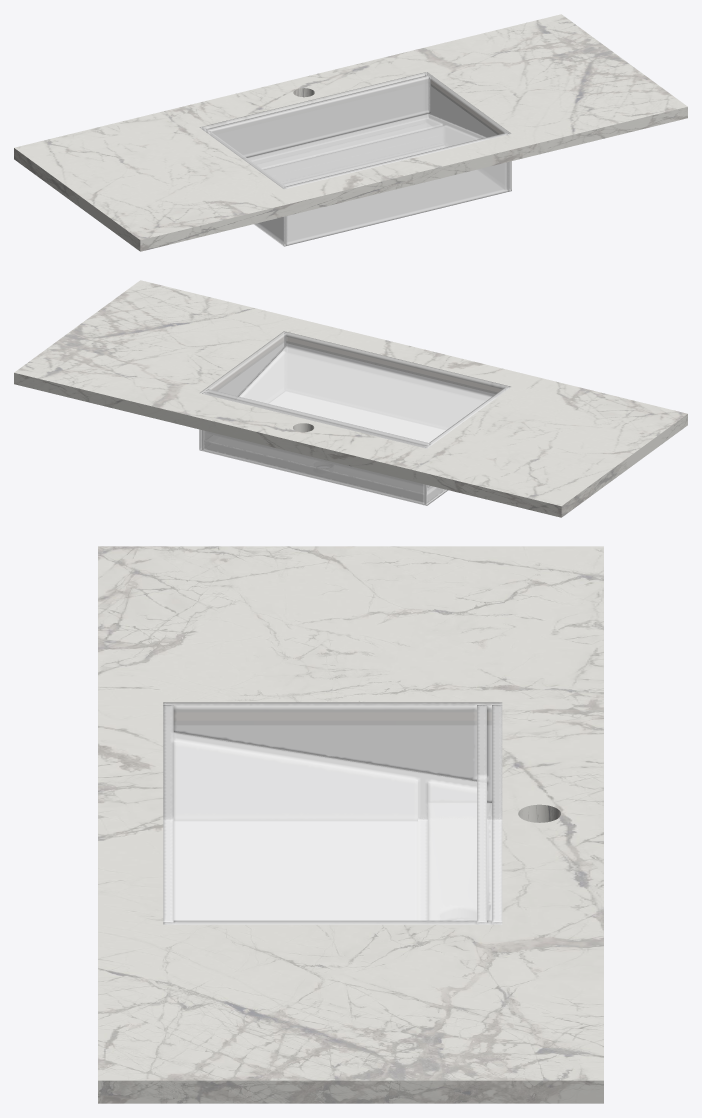
The model's file is GLS911.glb.
3 views of the same model, one above another, from view 1: azimuth 30°, elevation 25°; view 2: azimuth 150°, elevation 25°; view 3: azimuth 270°, elevation 25° (orthographic). The views are drawn at different scales.
Visible parts, largest first — view 1: GLS 911 cer, GLS 911(встраиваемая); view 2: GLS 911 cer, GLS 911(встраиваемая); view 3: GLS 911 cer, GLS 911(встраиваемая).
Part boxes in pixels (left/top/right/bottom): GLS 911 cer: left=14, top=14, right=687, bottom=251; GLS 911(встраиваемая): left=200, top=72, right=511, bottom=246; GLS 911 cer: left=14, top=280, right=687, bottom=517; GLS 911(встраиваемая): left=199, top=331, right=510, bottom=505; GLS 911 cer: left=98, top=546, right=603, bottom=1103; GLS 911(встраиваемая): left=163, top=702, right=502, bottom=924.
Bounding box in the file's own units: 1.5 × 0.15 × 0.6.
Materials: 3 (1 with a texture image).
